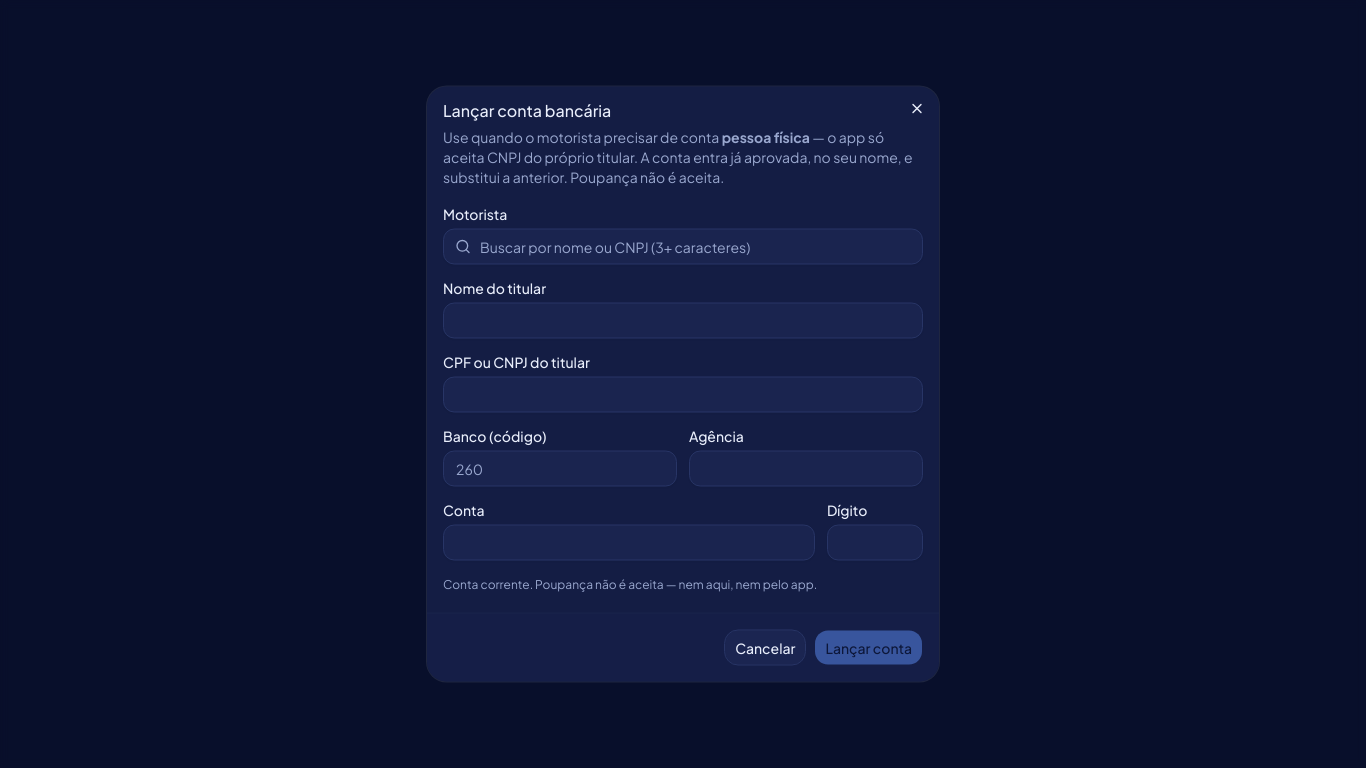
it: LancarContaDialog › mostra quando o motorista não tem CNPJ no cadastro
Type "Fulano" into the field labelled "Motorista" at {"x": 683, "y": 246}, box [443, 228, 923, 264]
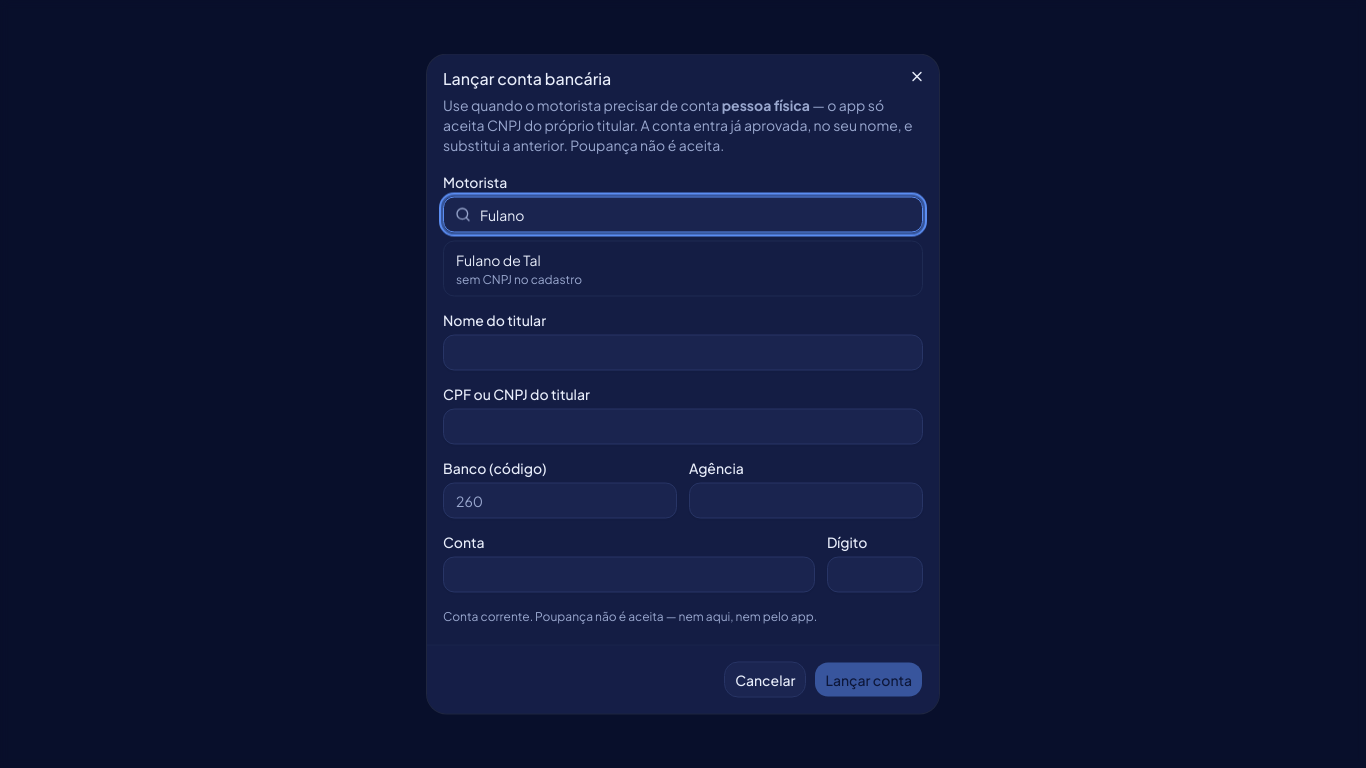
Check: the text "sem CNPJ no cadastro" is shown, box [456, 272, 582, 288]
